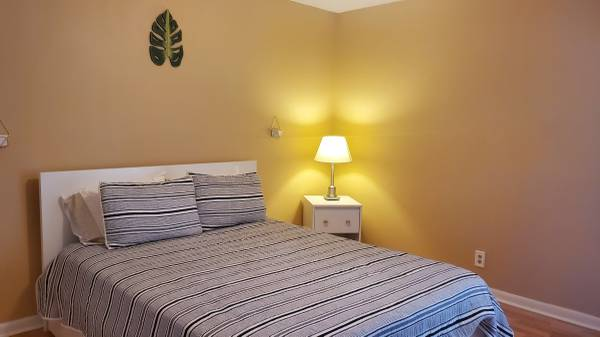bed: (38, 162, 500, 337)
lamp: (312, 136, 352, 201)
night stand: (302, 195, 364, 239)
